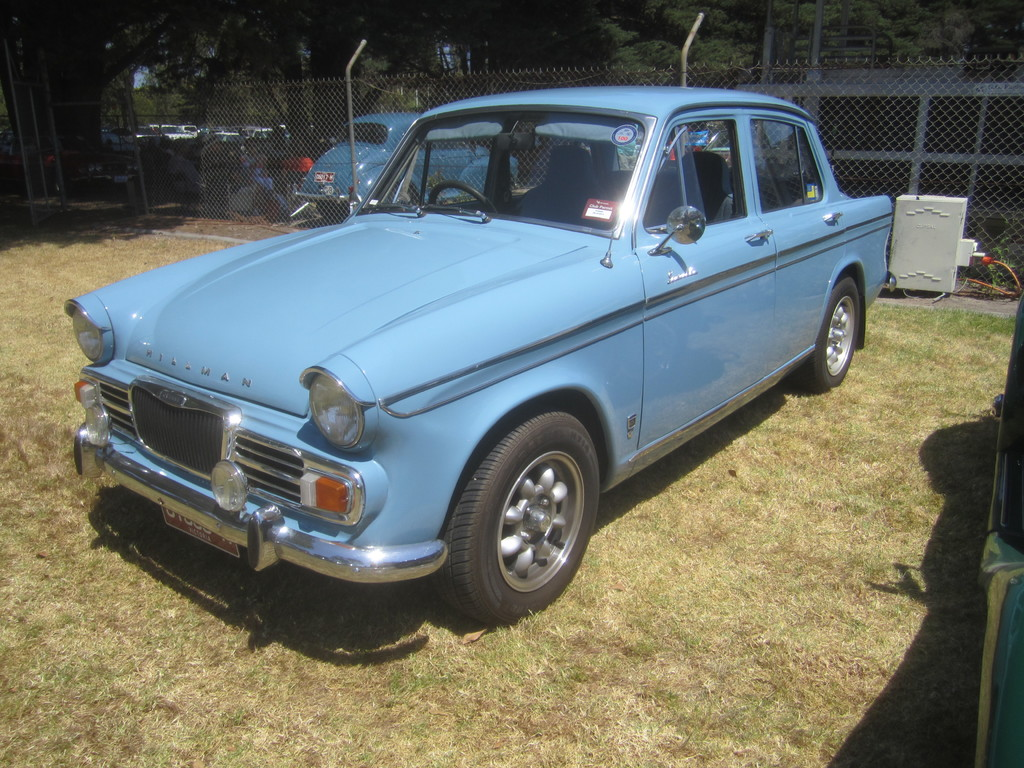mobil: (69, 105, 907, 648)
